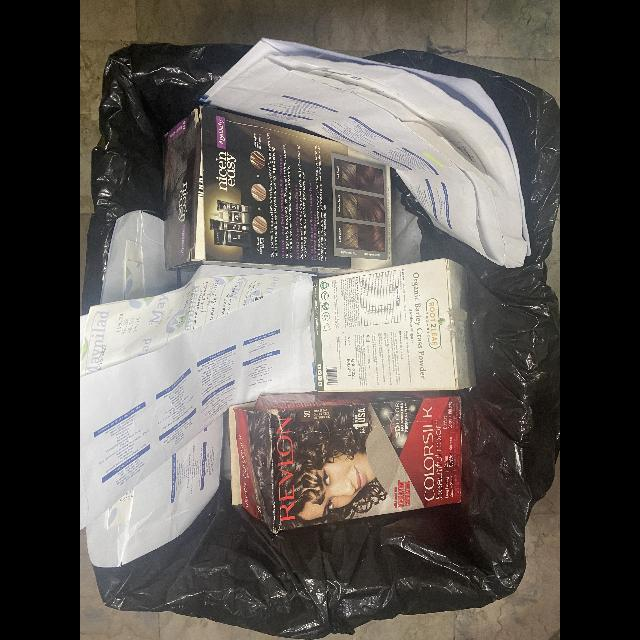paper: (204, 39, 530, 269), (80, 264, 316, 530), (164, 107, 393, 278), (228, 391, 463, 534), (312, 258, 477, 393), (86, 416, 224, 569), (100, 211, 200, 305)
